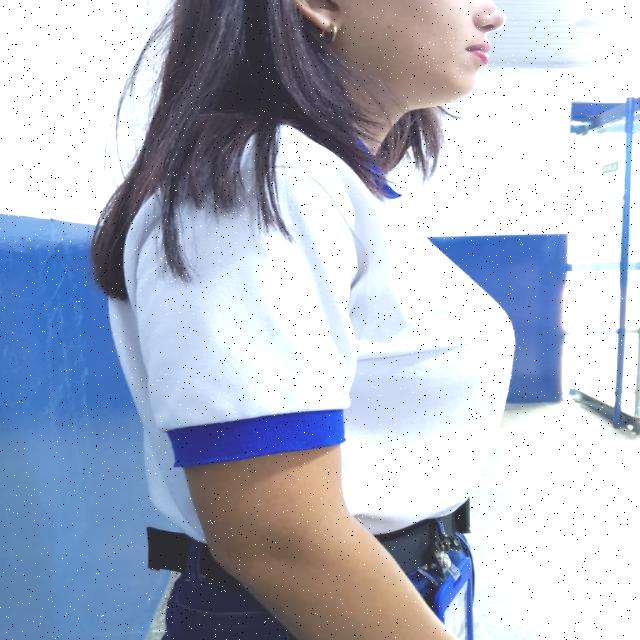uniforme_superior: (83, 92, 517, 550)
